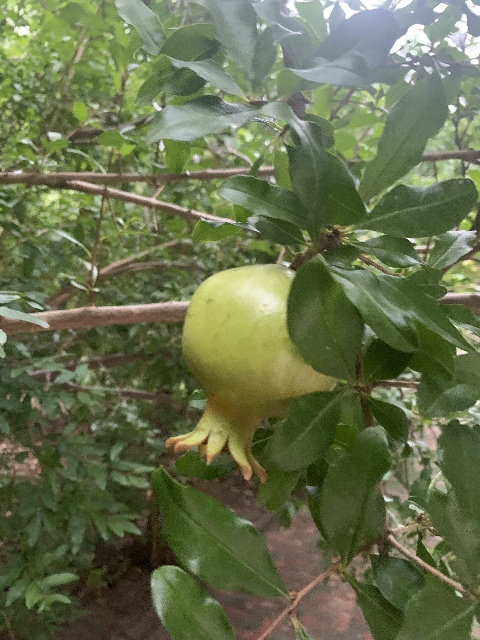mid-growth: (163, 263, 338, 483)
